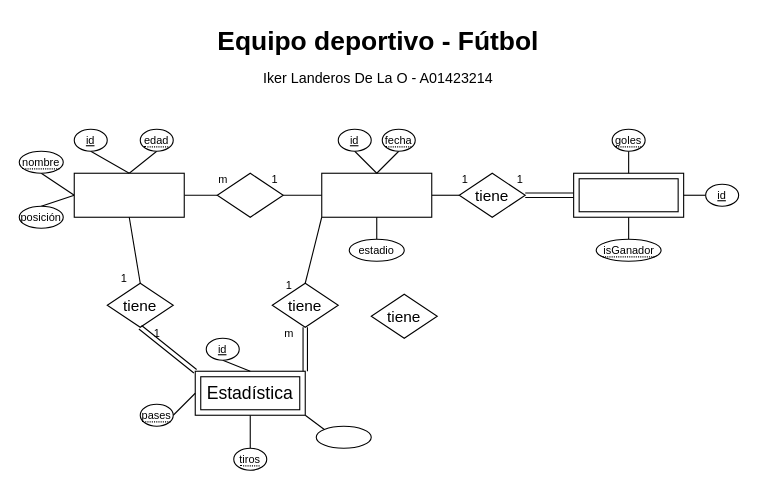
The diagram is 758 pixels wide and 490 high, and some of its shapes have lost their labels. The shapes that lost their labels are listed below. From the top down, each one's box as (x1, y1, x2, y2) in pixels, then its label:
(73, 172, 184, 217): Jugador
(216, 172, 283, 217): juegan
(321, 172, 432, 217): Partidos
(573, 172, 684, 217): Resultado
(315, 425, 371, 448): posesión
